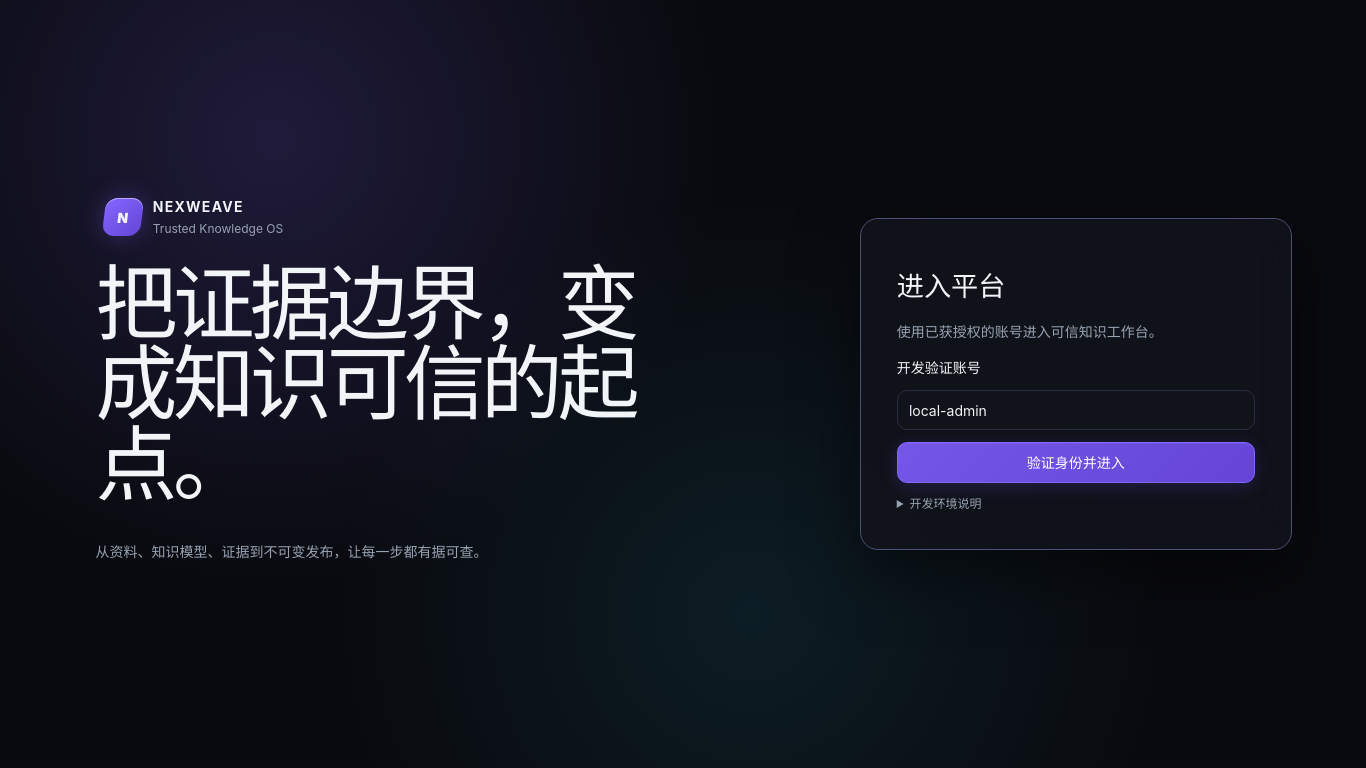
authenticates through the development identity provider and opens the M2 shell
Expected: the heading "进入平台" is shown, [897,270,1006,303]
Click the button "验证身份并进入" at (1076, 463), box [897,442,1255,483]
(page scrolled)
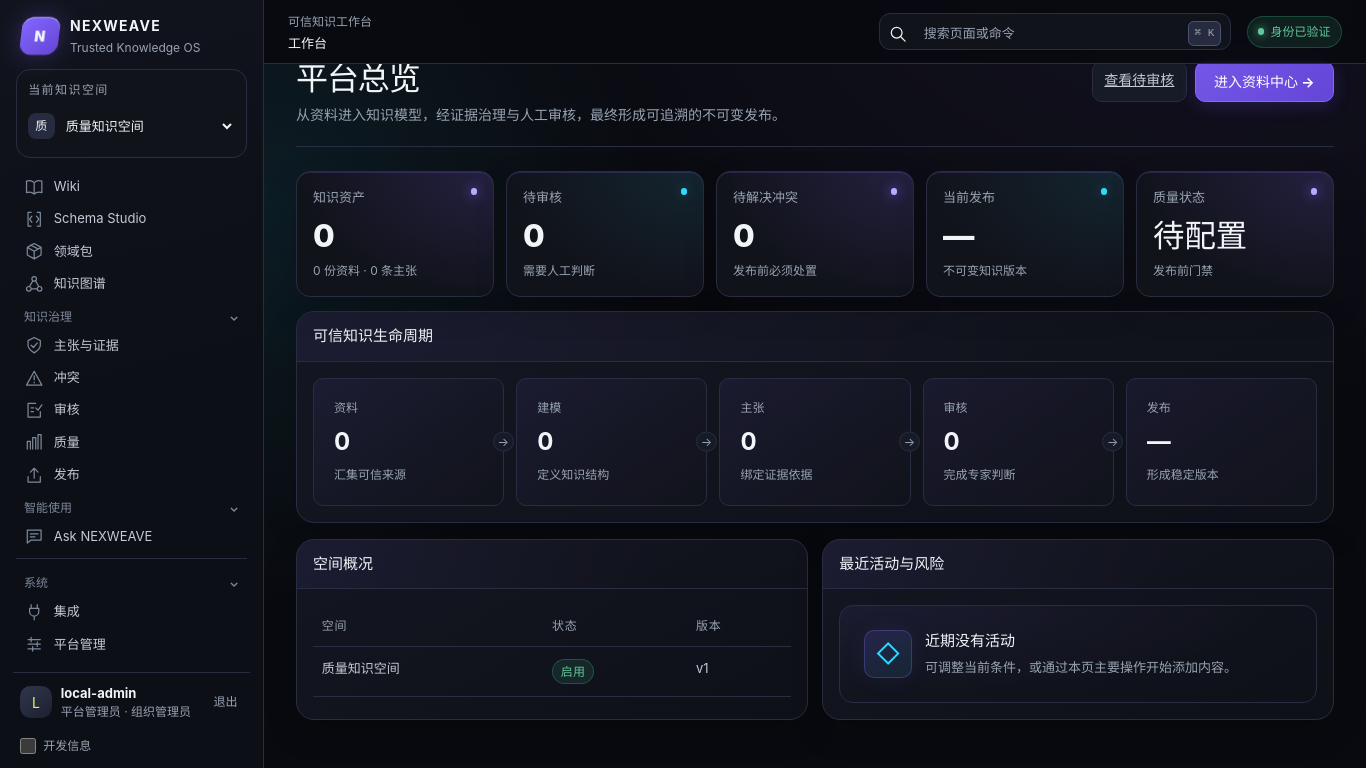
Expected: the heading "平台总览" is shown, [296,59,420,98]
Expected: the navigation bar named "主导航" is shown, [13,166,250,672]
Expected: the button "平台管理" is enabled, [16,628,247,660]
